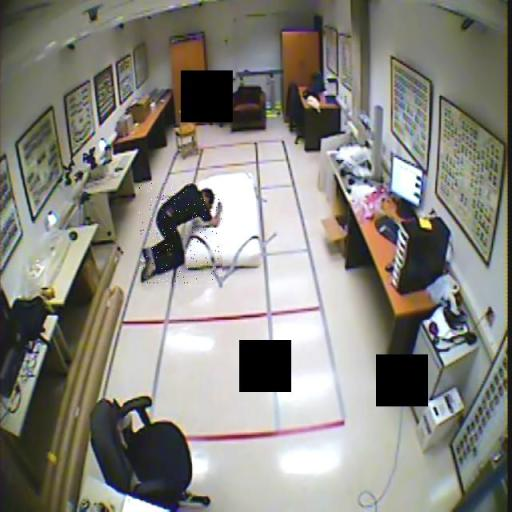Fall: (140, 184, 223, 286)
